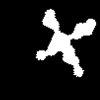single_crochet: (36, 9, 95, 76)
